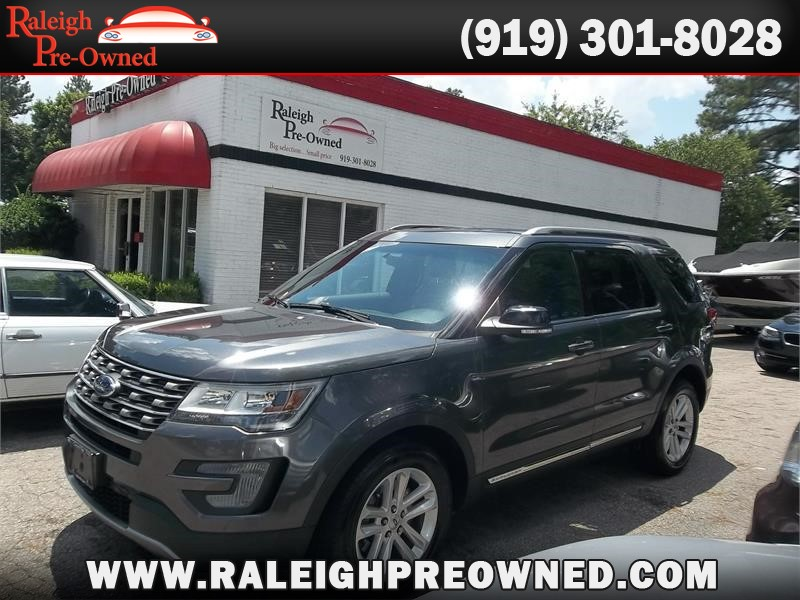Ford Explorer: (60, 227, 711, 595)
